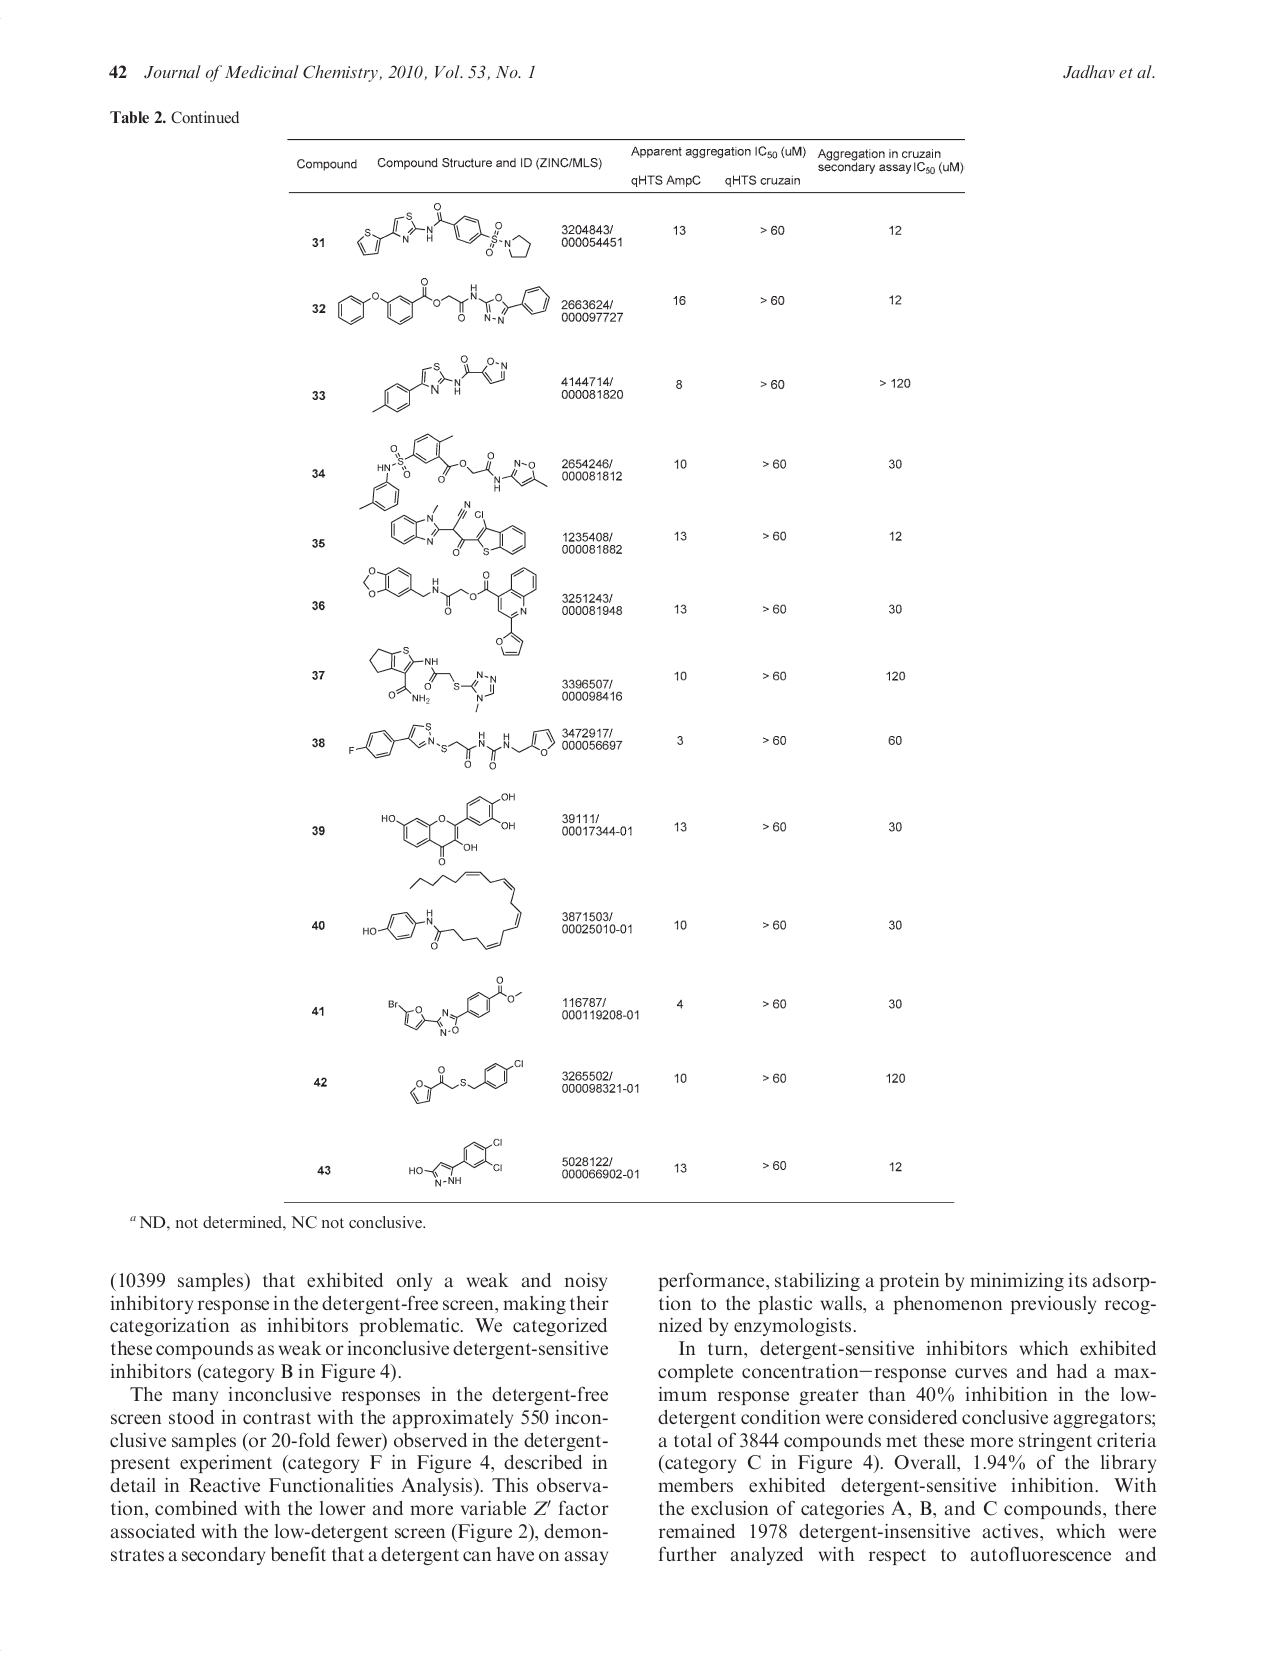exist_molecular: (360, 567, 539, 657), (355, 434, 551, 515), (360, 868, 524, 952), (380, 789, 517, 867), (355, 201, 535, 259), (336, 277, 552, 324), (347, 725, 557, 771), (367, 645, 497, 713), (386, 975, 524, 1039), (368, 354, 508, 415), (390, 500, 528, 559), (410, 1056, 525, 1108), (407, 1133, 505, 1189)
